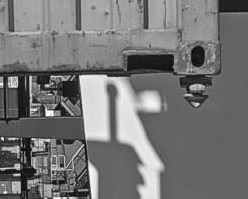twist_lock_2: (171, 66, 221, 112)
